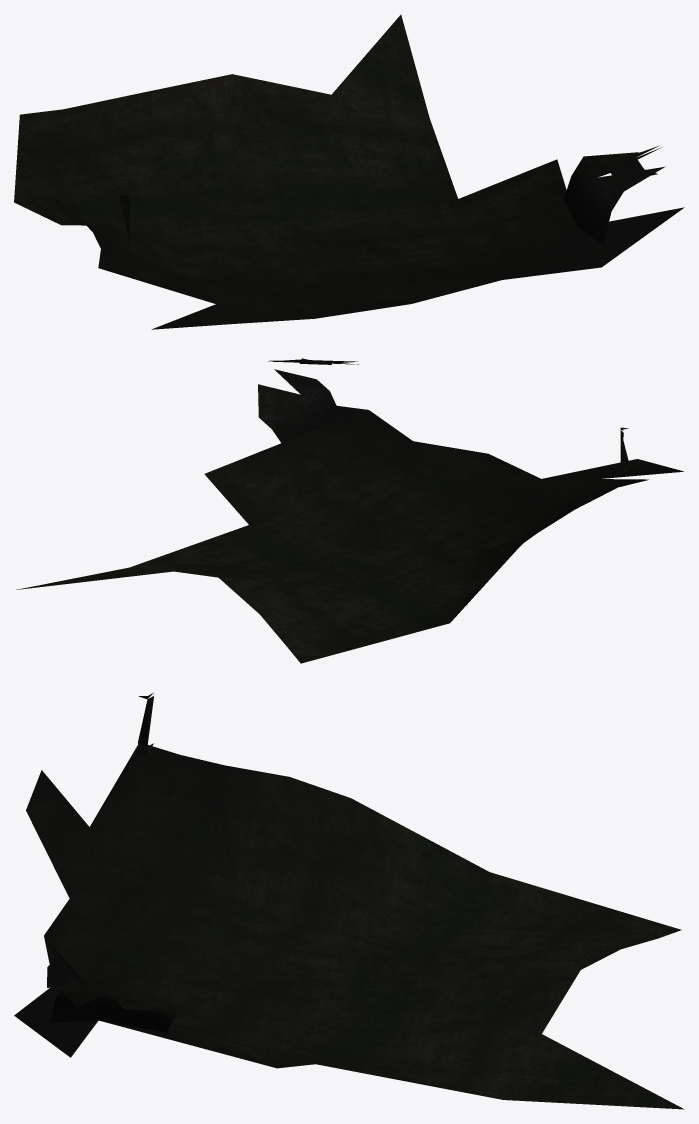
Rendered from cell_3_-19.gltf.
The picture shows the model from 3 angles, top to bottom: view 1: azimuth 30°, elevation 25°; view 2: azimuth 150°, elevation 25°; view 3: azimuth 270°, elevation 25°; orthographic projection. The views are drawn at different scales.
Visible parts, largest first — view 1: cell_3_-19; view 2: cell_3_-19; view 3: cell_3_-19.
Boxes of the visible parts, bbox=[...] form: cell_3_-19: bbox=[14, 14, 684, 329]; cell_3_-19: bbox=[16, 358, 683, 663]; cell_3_-19: bbox=[14, 693, 684, 1109].
Bounding box in the file's own units: 305 × 87.55 × 309.
4 materials, 4 textured.
